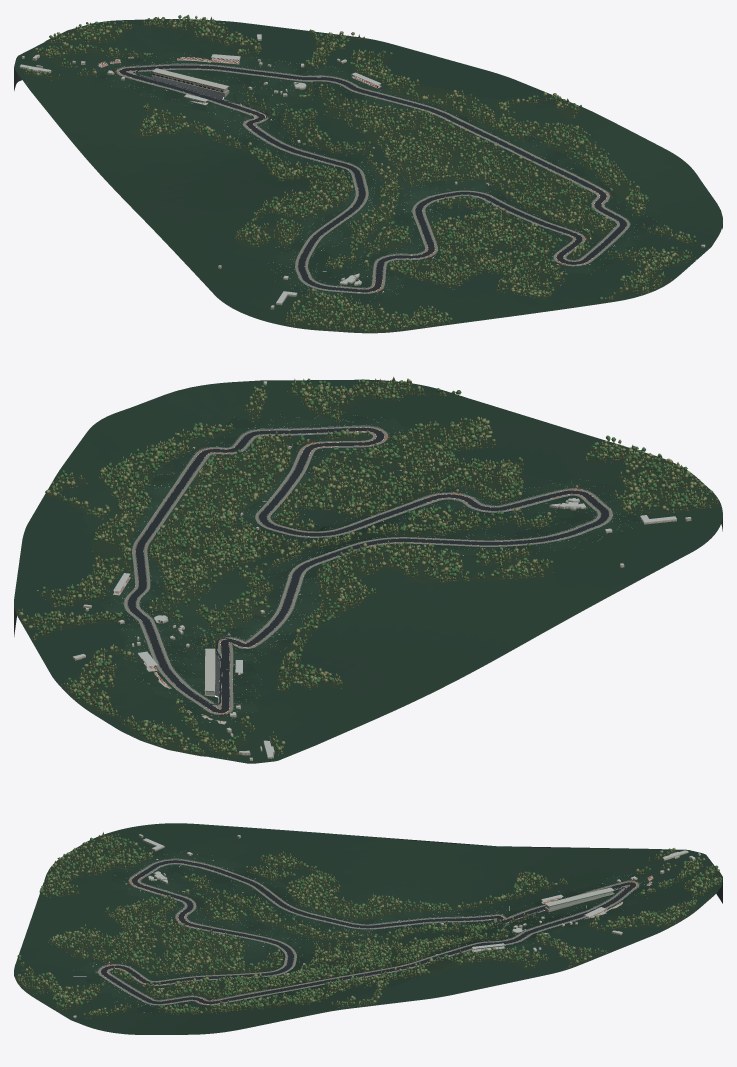
Rendered from Spa.glb.
3 views of the same model, one above another, from view 1: azimuth 30°, elevation 25°; view 2: azimuth 150°, elevation 25°; view 3: azimuth 270°, elevation 25° (orthographic). The views are drawn at different scales.
Parts seen in each view (by area): view 1: terrain/ground, terrain-woodland/forestFloor, scenery/leavesLight, scenery/leaves, terrain-ground-finish-1, terrain-ground-finish-2, terrain-ground-finish-3, road/asphalt, runoff/gravel, terrain-ground-finish-0, terrain-ground-finish-4, shoulder/runoff (+3 smaller); view 2: terrain/ground, terrain-woodland/forestFloor, scenery/leavesLight, scenery/leaves, road/asphalt, terrain-ground-finish-1, terrain-ground-finish-3, runoff/gravel, terrain-ground-finish-2, terrain-ground-finish-4, terrain-ground-finish-0, shoulder/runoff (+3 smaller); view 3: terrain/ground, terrain-woodland/forestFloor, scenery/leavesLight, scenery/leaves, road/asphalt, terrain-ground-finish-1, runoff/gravel, terrain-ground-finish-3, terrain-ground-finish-2, terrain-ground-finish-4, terrain-ground-finish-0, shoulder/runoff (+4 smaller).
Boxes of the visible parts, box(x1,y1,x2,y2) form: terrain/ground: box(23, 19, 722, 327); terrain-woodland/forestFloor: box(23, 19, 701, 333); scenery/leavesLight: box(24, 14, 692, 332); scenery/leaves: box(25, 15, 696, 331); terrain-ground-finish-1: box(96, 49, 655, 303); terrain-ground-finish-2: box(94, 50, 646, 301); terrain-ground-finish-3: box(91, 51, 642, 301); road/asphalt: box(119, 65, 626, 292); runoff/gravel: box(116, 64, 629, 293); terrain-ground-finish-0: box(99, 50, 658, 302); terrain-ground-finish-4: box(97, 52, 632, 295); shoulder/runoff: box(119, 65, 627, 292); terrain/ground: box(14, 379, 722, 758); terrain-woodland/forestFloor: box(14, 379, 721, 758); scenery/leavesLight: box(17, 376, 718, 755); scenery/leaves: box(18, 378, 717, 755); road/asphalt: box(128, 427, 608, 712); terrain-ground-finish-1: box(100, 413, 638, 721); terrain-ground-finish-3: box(100, 415, 629, 726); runoff/gravel: box(124, 426, 612, 714); terrain-ground-finish-2: box(100, 413, 635, 725); terrain-ground-finish-4: box(102, 416, 623, 724); terrain-ground-finish-0: box(116, 415, 640, 719); shoulder/runoff: box(127, 427, 609, 713); terrain/ground: box(14, 823, 721, 1034); terrain-woodland/forestFloor: box(15, 834, 722, 1018); scenery/leavesLight: box(17, 832, 720, 1015); scenery/leaves: box(17, 834, 722, 1015); road/asphalt: box(101, 860, 636, 1003); terrain-ground-finish-1: box(76, 849, 657, 1012); runoff/gravel: box(98, 859, 639, 1005); terrain-ground-finish-3: box(76, 850, 659, 1007); terrain-ground-finish-2: box(74, 849, 659, 1011); terrain-ground-finish-4: box(80, 853, 656, 999); terrain-ground-finish-0: box(86, 849, 655, 1012); shoulder/runoff: box(101, 860, 636, 1004).
Size of the model in its own units: 1973 by 149 by 2762.
